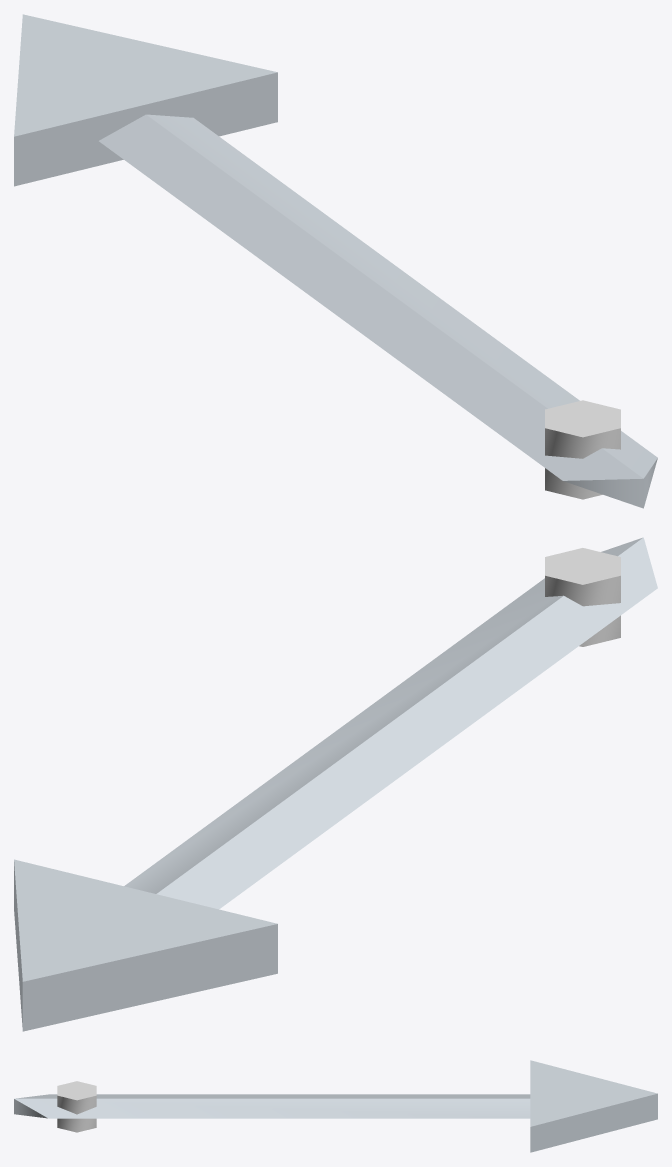
The model's file is 0462_Minute_Hand.glb.
The picture shows the model from 3 angles, top to bottom: view 1: azimuth 30°, elevation 25°; view 2: azimuth 150°, elevation 25°; view 3: azimuth 270°, elevation 25°; orthographic projection. The views are drawn at different scales.
Visible parts, largest first — view 1: part_0; view 2: part_0; view 3: part_0.
Part boxes in pixels (box(x1,y1,x2,y2)): part_0: box(14, 14, 657, 508); part_0: box(14, 537, 657, 1031); part_0: box(14, 1060, 657, 1152).
Size of the model in its own units: 0.555 by 0.1249 by 2.26.
Materials: 1 (1 with a texture image).
